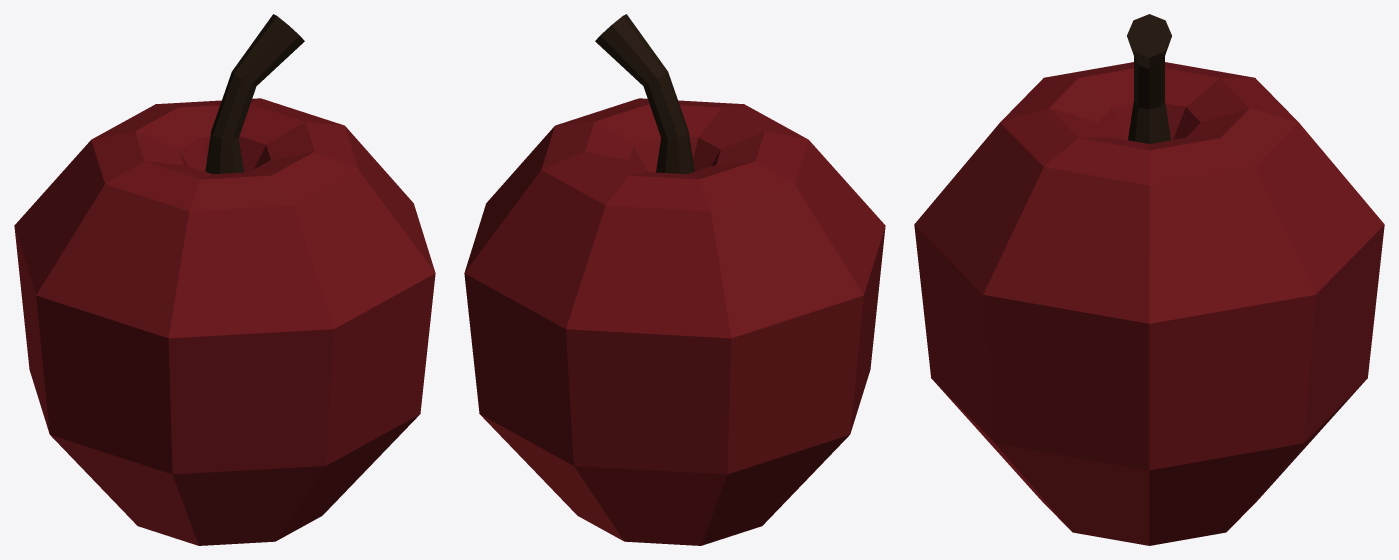
The model's file is Apple.fbx.
The picture shows the model from 3 angles, left to right: view 1: azimuth 30°, elevation 25°; view 2: azimuth 150°, elevation 25°; view 3: azimuth 270°, elevation 25°; orthographic projection. The views are drawn at different scales.
Parts seen in each view (by area): view 1: Apple; view 2: Apple; view 3: Apple.
Boxes of the visible parts, bbox=[...] form: Apple: bbox=[14, 14, 435, 545]; Apple: bbox=[464, 14, 885, 545]; Apple: bbox=[914, 14, 1384, 545].
Bounding box in the file's own units: 178 × 214 × 178.
